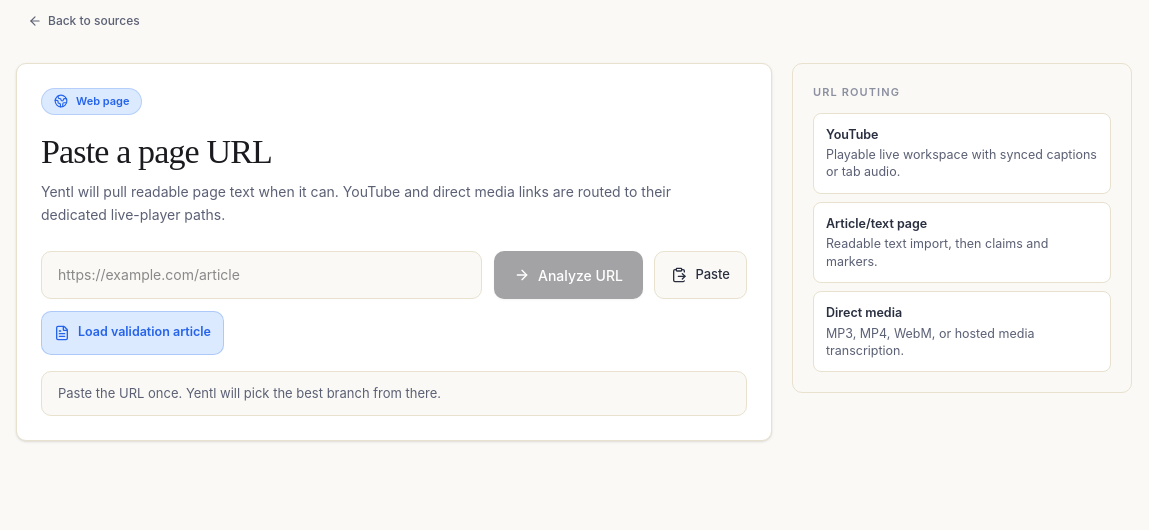
it: WebUrlIngestPane › loads the validation article through the article ingest and session handoff path
Click the button "Load validation article".
click(132, 332)  # box [41,310,224,354]
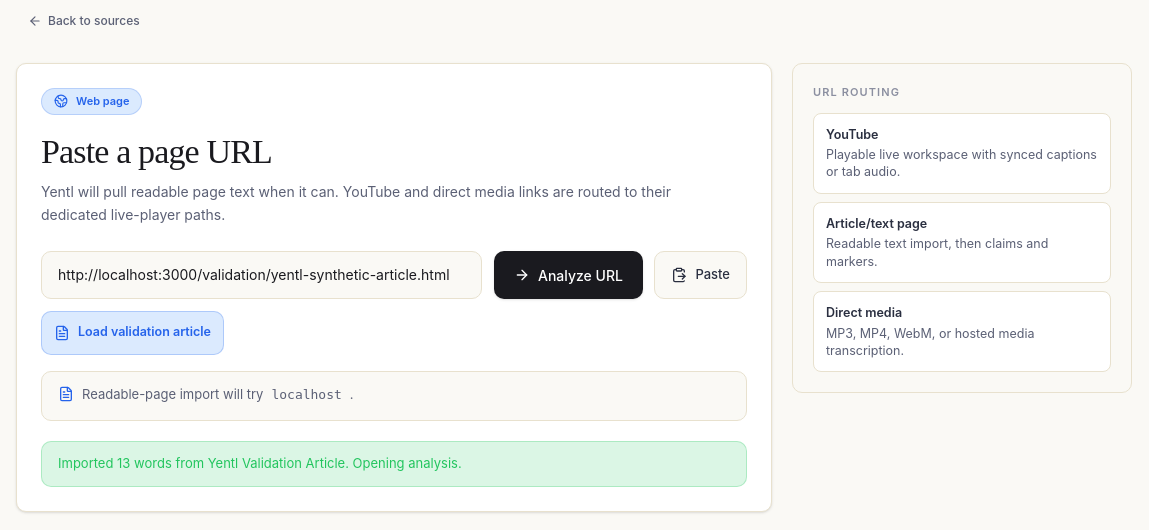
Result: the field named "Web page URL" holds "http://localhost:3000/validation/yentl-synthetic-article.html" at [41,250,482,298]
